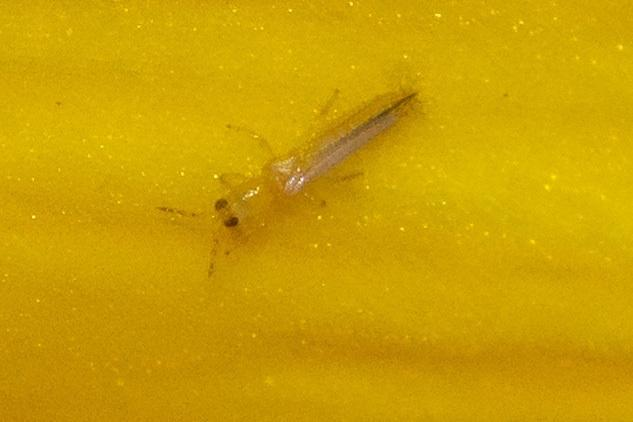tiny_pests: (122, 58, 455, 306)
